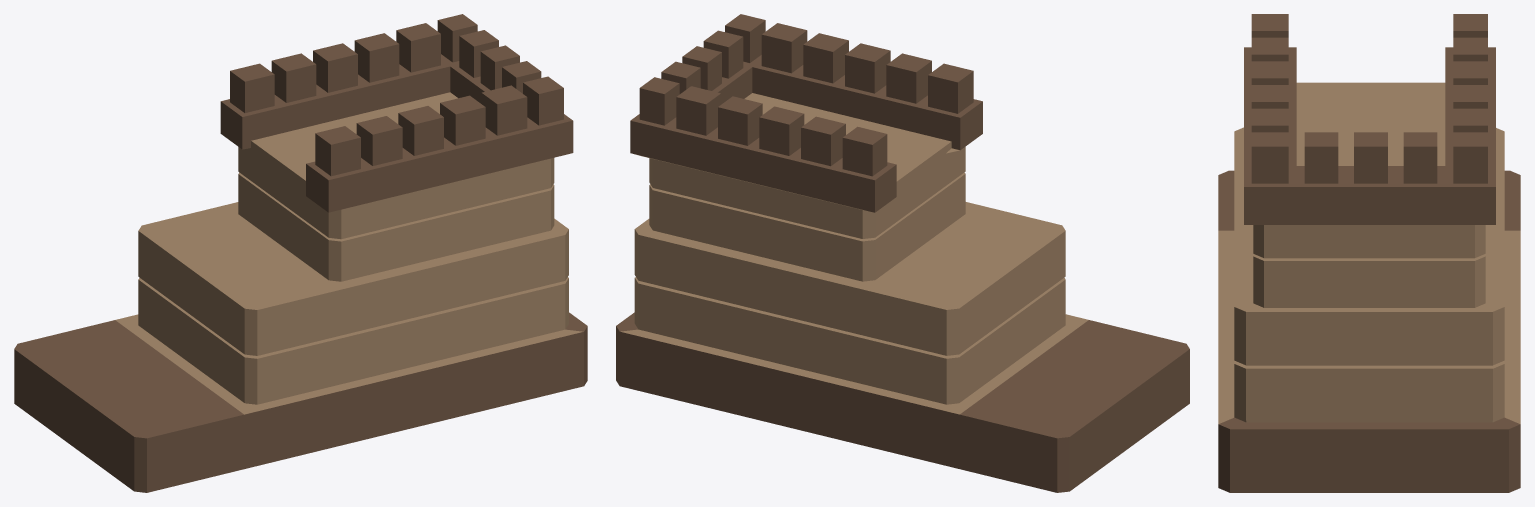
File: docks.fbx
3 renders of one model, left to right at view 1: azimuth 30°, elevation 25°; view 2: azimuth 150°, elevation 25°; view 3: azimuth 270°, elevation 25°, orthographic. The views are drawn at different scales.
Visible parts, largest first — view 1: Cube.004; view 2: Cube.004; view 3: Cube.004.
Boxes of the visible parts, x1,y1,x2,y2 form: Cube.004: (14, 14, 587, 492); Cube.004: (616, 14, 1189, 492); Cube.004: (1218, 14, 1520, 492).
Size of the model in its own units: 405 by 247 by 200.
